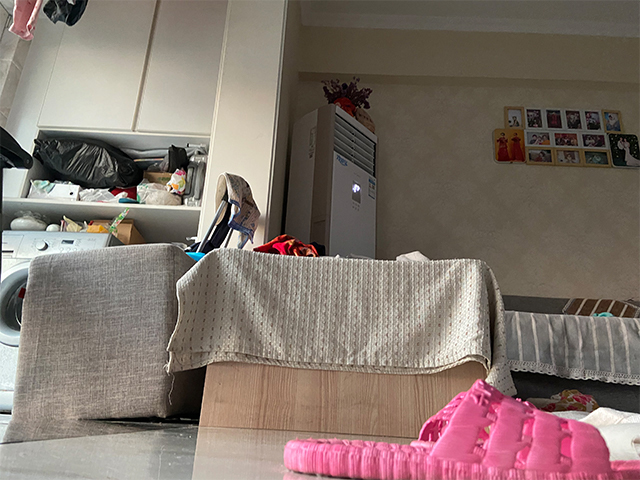slippers: (283, 375, 640, 480)
sofa: (165, 247, 518, 434), (504, 295, 640, 414)
